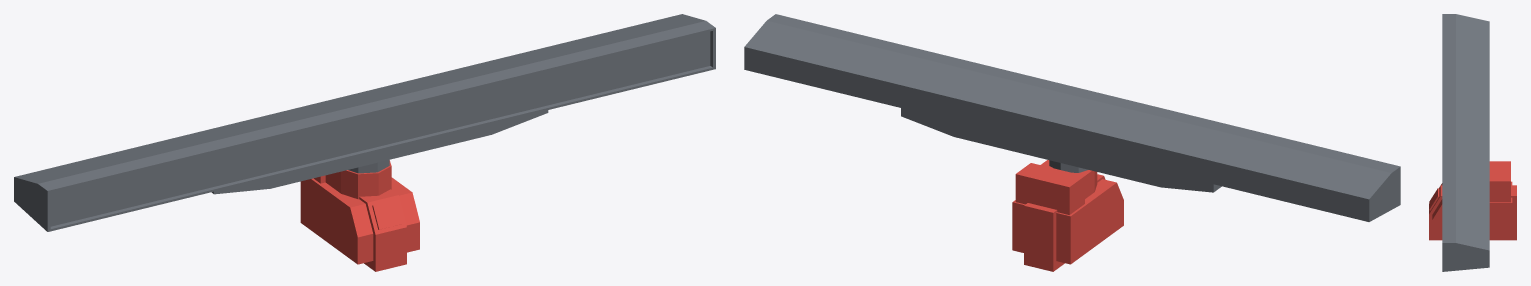
File: ops-39-2mat.glb
The picture shows the model from 3 angles, left to right: view 1: azimuth 30°, elevation 25°; view 2: azimuth 150°, elevation 25°; view 3: azimuth 270°, elevation 25°; orthographic projection. The views are drawn at different scales.
Parts seen in each view (by area): view 1: radar, body; view 2: radar, body; view 3: radar, body.
Part boxes in pixels (x1,y1,x2,y2): radar: [14, 14, 715, 231]; body: [300, 160, 419, 271]; radar: [744, 14, 1400, 221]; body: [1012, 160, 1123, 271]; radar: [1442, 14, 1489, 271]; body: [1429, 161, 1516, 240].
Bounding box in the file's own units: 4 × 0.8678 × 0.6482.
2 materials, 1 textured.
